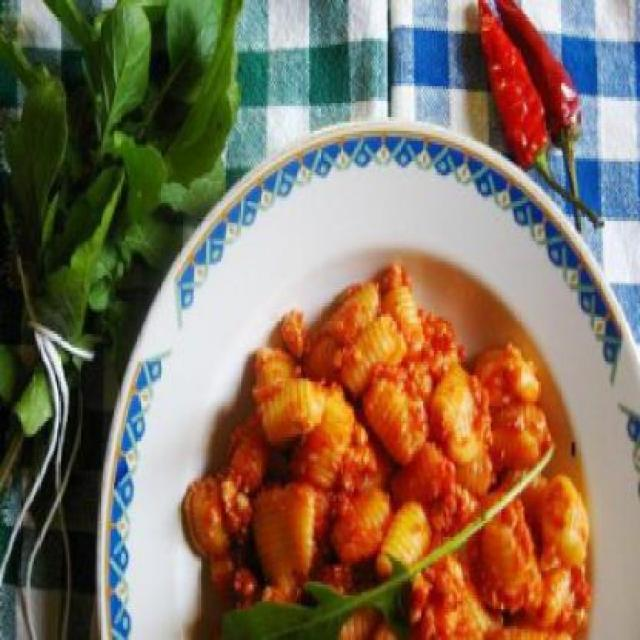Pasta al ragu: (208, 254, 606, 632)
